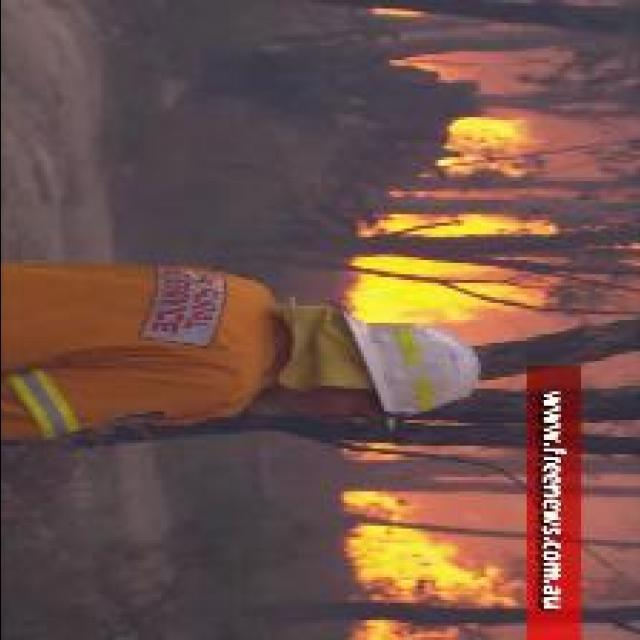Fire: (343, 492, 526, 640), (344, 210, 558, 318), (438, 112, 562, 178)
